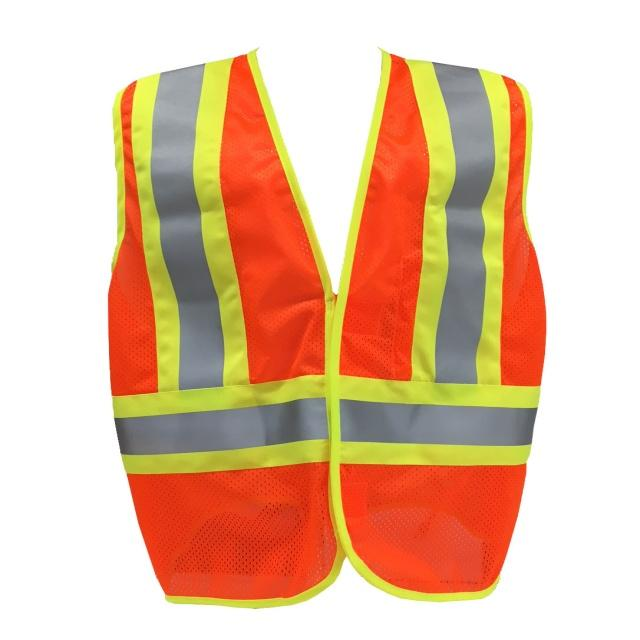vest: (106, 61, 549, 640)
